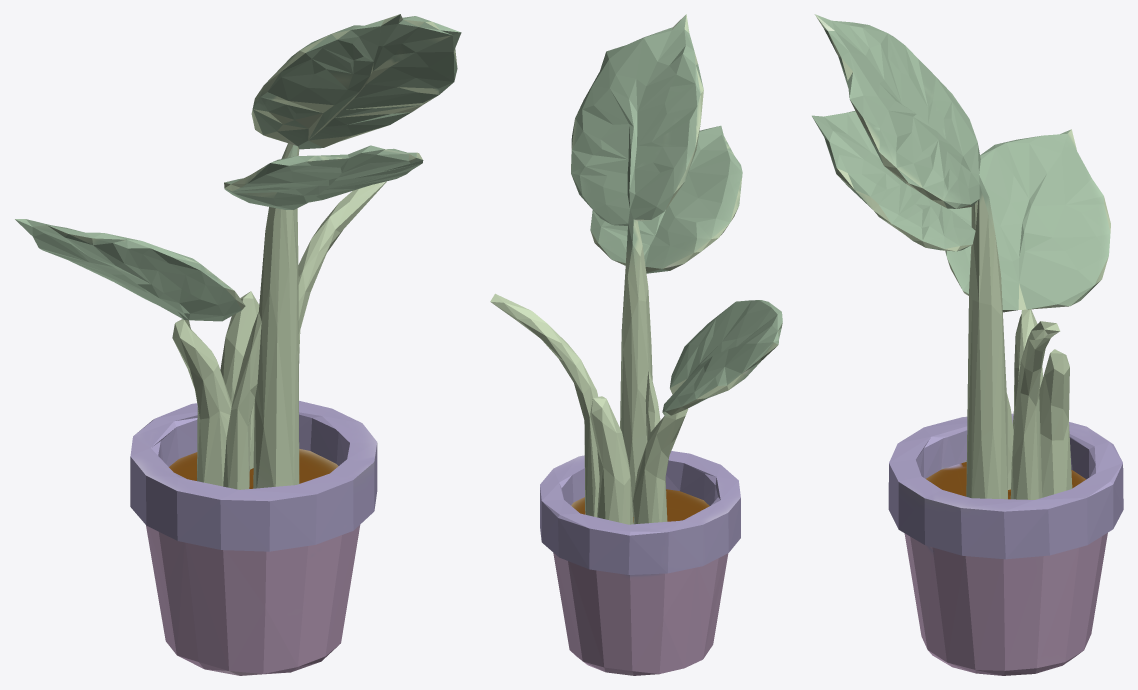
The model's file is Pothos.fbx.
3 views of the same model, side by side, from view 1: azimuth 30°, elevation 25°; view 2: azimuth 150°, elevation 25°; view 3: azimuth 270°, elevation 25° (orthographic). The views are drawn at different scales.
Parts seen in each view (by area): view 1: Mesh1; view 2: Mesh1; view 3: Mesh1.
Boxes of the visible parts, left/top/right/bottom form: Mesh1: left=15, top=14, right=461, bottom=675; Mesh1: left=490, top=14, right=782, bottom=675; Mesh1: left=812, top=14, right=1123, bottom=675.
Bounding box in the file's own units: 378 × 690 × 300.
1 material, 1 textured.
